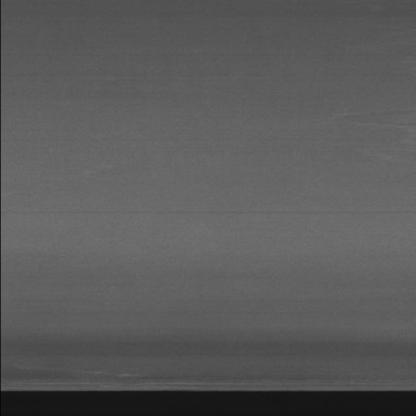silk_spot: (36, 368, 282, 390)
